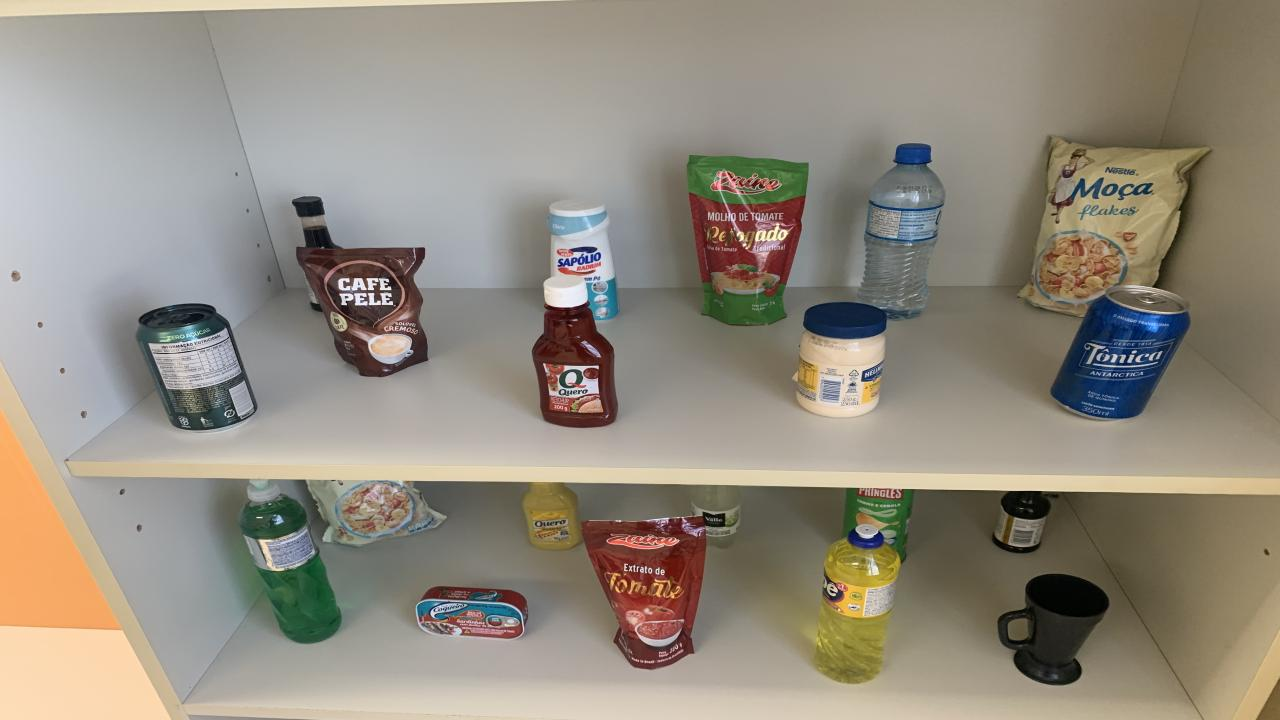Cleaner-Cleanup_Items: (548, 199, 620, 321)
Coffee-Pantry_Items: (295, 248, 428, 377)
Detergent-Cleanup_Items: (238, 480, 340, 643), (815, 525, 900, 684)
English_Sauce-Pantry_Items: (992, 491, 1050, 553), (292, 197, 338, 249), (308, 285, 320, 311)
Flakes-Snacks: (1018, 137, 1210, 315), (308, 480, 445, 546), (908, 257, 910, 261)
Guarana_Can-Drinks: (138, 304, 258, 431)
Ketchup-Pantry_Items: (532, 274, 618, 428)
Mayonnaise-Pantry_Items: (792, 302, 888, 416)
Mustard-Pantry_Items: (522, 482, 580, 549)
Pringles-Snacks: (842, 488, 915, 561)
Soda-Drinks: (690, 486, 740, 548)
Tomato_Sauce-Pantry_Items: (688, 156, 808, 324), (582, 516, 705, 669)
Tonic-Drinks: (1050, 285, 1190, 420)
Tuna_Can-Pantry_Items: (415, 587, 528, 639)
Water_Bottle-Drinks: (858, 144, 945, 319)
